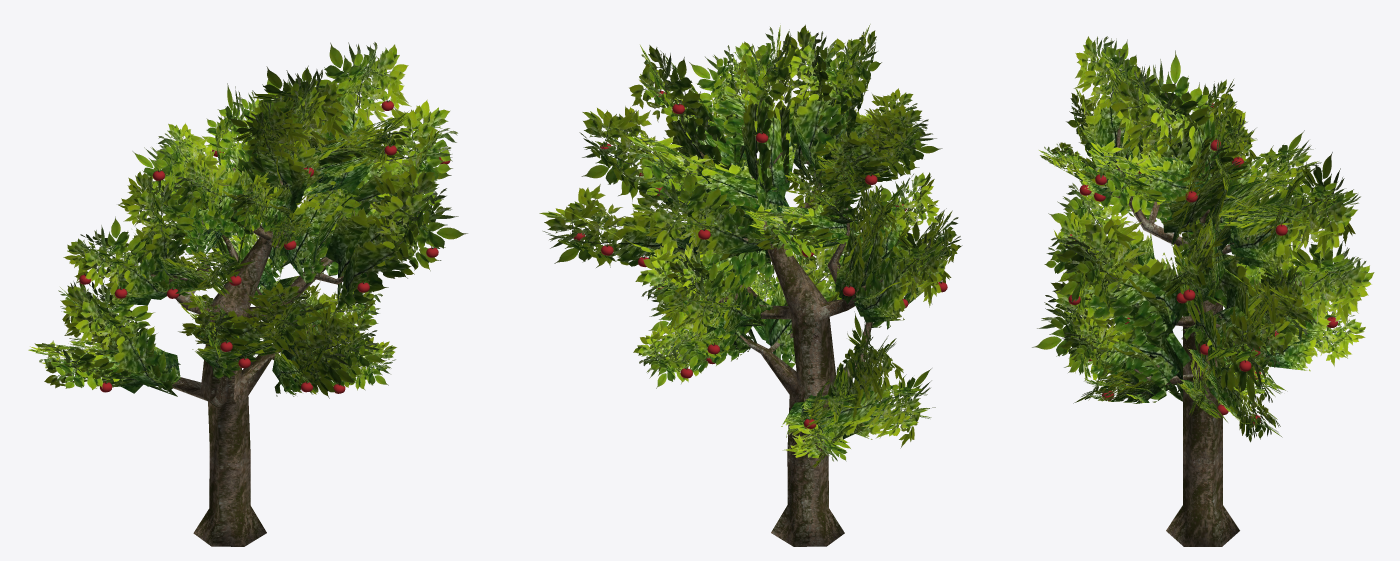
File: AppleTree.fbx
3 views of the same model, side by side, from view 1: azimuth 30°, elevation 25°; view 2: azimuth 150°, elevation 25°; view 3: azimuth 270°, elevation 25° (orthographic). The views are drawn at different scales.
Visible parts, largest first — view 1: CitrusLeaves.png.072, trunk.003, apples; view 2: CitrusLeaves.png.072, trunk.003, apples; view 3: CitrusLeaves.png.072, trunk.003, apples.
Boxes of the visible parts, box(x1,y1,x2,y2) form: CitrusLeaves.png.072: box(28, 42, 467, 398); trunk.003: box(134, 168, 343, 546); apples: box(79, 99, 450, 393); CitrusLeaves.png.072: box(539, 24, 962, 467); trunk.003: box(700, 151, 882, 546); apples: box(573, 70, 947, 428); CitrusLeaves.png.072: box(1032, 36, 1374, 442); trunk.003: box(1109, 128, 1302, 546); apples: box(1068, 103, 1337, 425).
Bounding box in the file's own units: 564 × 644 × 426.
5 materials, 5 textured.
